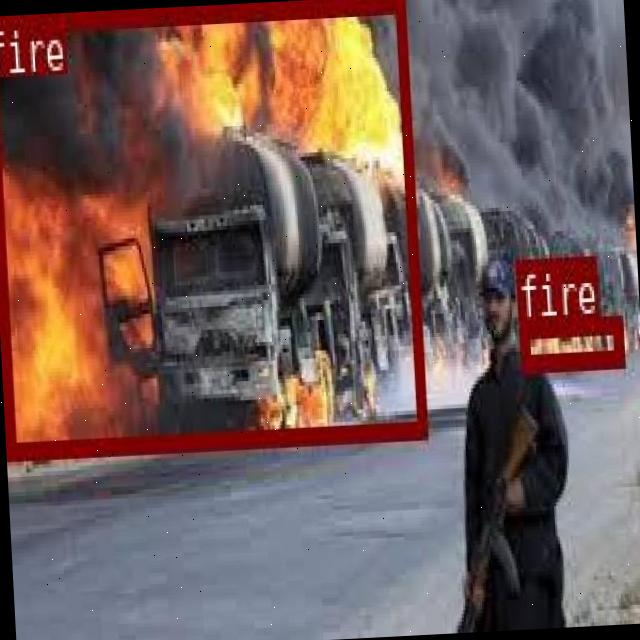fire: (0, 0, 426, 454), (518, 312, 622, 368)
